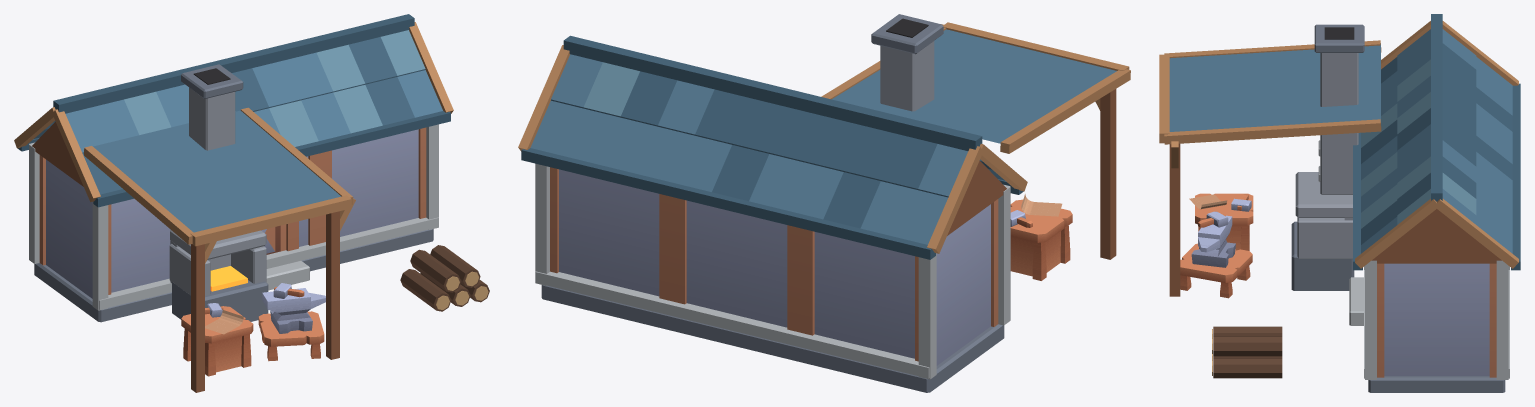
File: blacksmith.glb
3 views of the same model, side by side, from view 1: azimuth 30°, elevation 25°; view 2: azimuth 150°, elevation 25°; view 3: azimuth 270°, elevation 25° (orthographic). The views are drawn at different scales.
Visible parts, largest first — view 1: blacksmith_建筑共用调色板, blacksmith_fantasy-town-kit 调色板, blacksmith_survival-kit 调色板, blacksmith_锻炉炉火; view 2: blacksmith_建筑共用调色板, blacksmith_fantasy-town-kit 调色板, blacksmith_survival-kit 调色板; view 3: blacksmith_建筑共用调色板, blacksmith_fantasy-town-kit 调色板, blacksmith_survival-kit 调色板.
Part boxes in pixels (bbox=[...]): blacksmith_建筑共用调色板: bbox=[14, 14, 489, 392]; blacksmith_fantasy-town-kit 调色板: bbox=[39, 127, 426, 298]; blacksmith_survival-kit 调色板: bbox=[181, 283, 325, 376]; blacksmith_锻炉炉火: bbox=[210, 266, 247, 291]; blacksmith_建筑共用调色板: bbox=[518, 14, 1130, 392]; blacksmith_fantasy-town-kit 调色板: bbox=[550, 167, 998, 365]; blacksmith_survival-kit 调色板: bbox=[1010, 194, 1072, 280]; blacksmith_建筑共用调色板: bbox=[1159, 14, 1520, 392]; blacksmith_fantasy-town-kit 调色板: bbox=[1377, 263, 1496, 377]; blacksmith_survival-kit 调色板: bbox=[1180, 193, 1253, 298].
Size of the model in its own units: 6.54 by 4.04 by 5.5.
4 materials, 3 textured.
